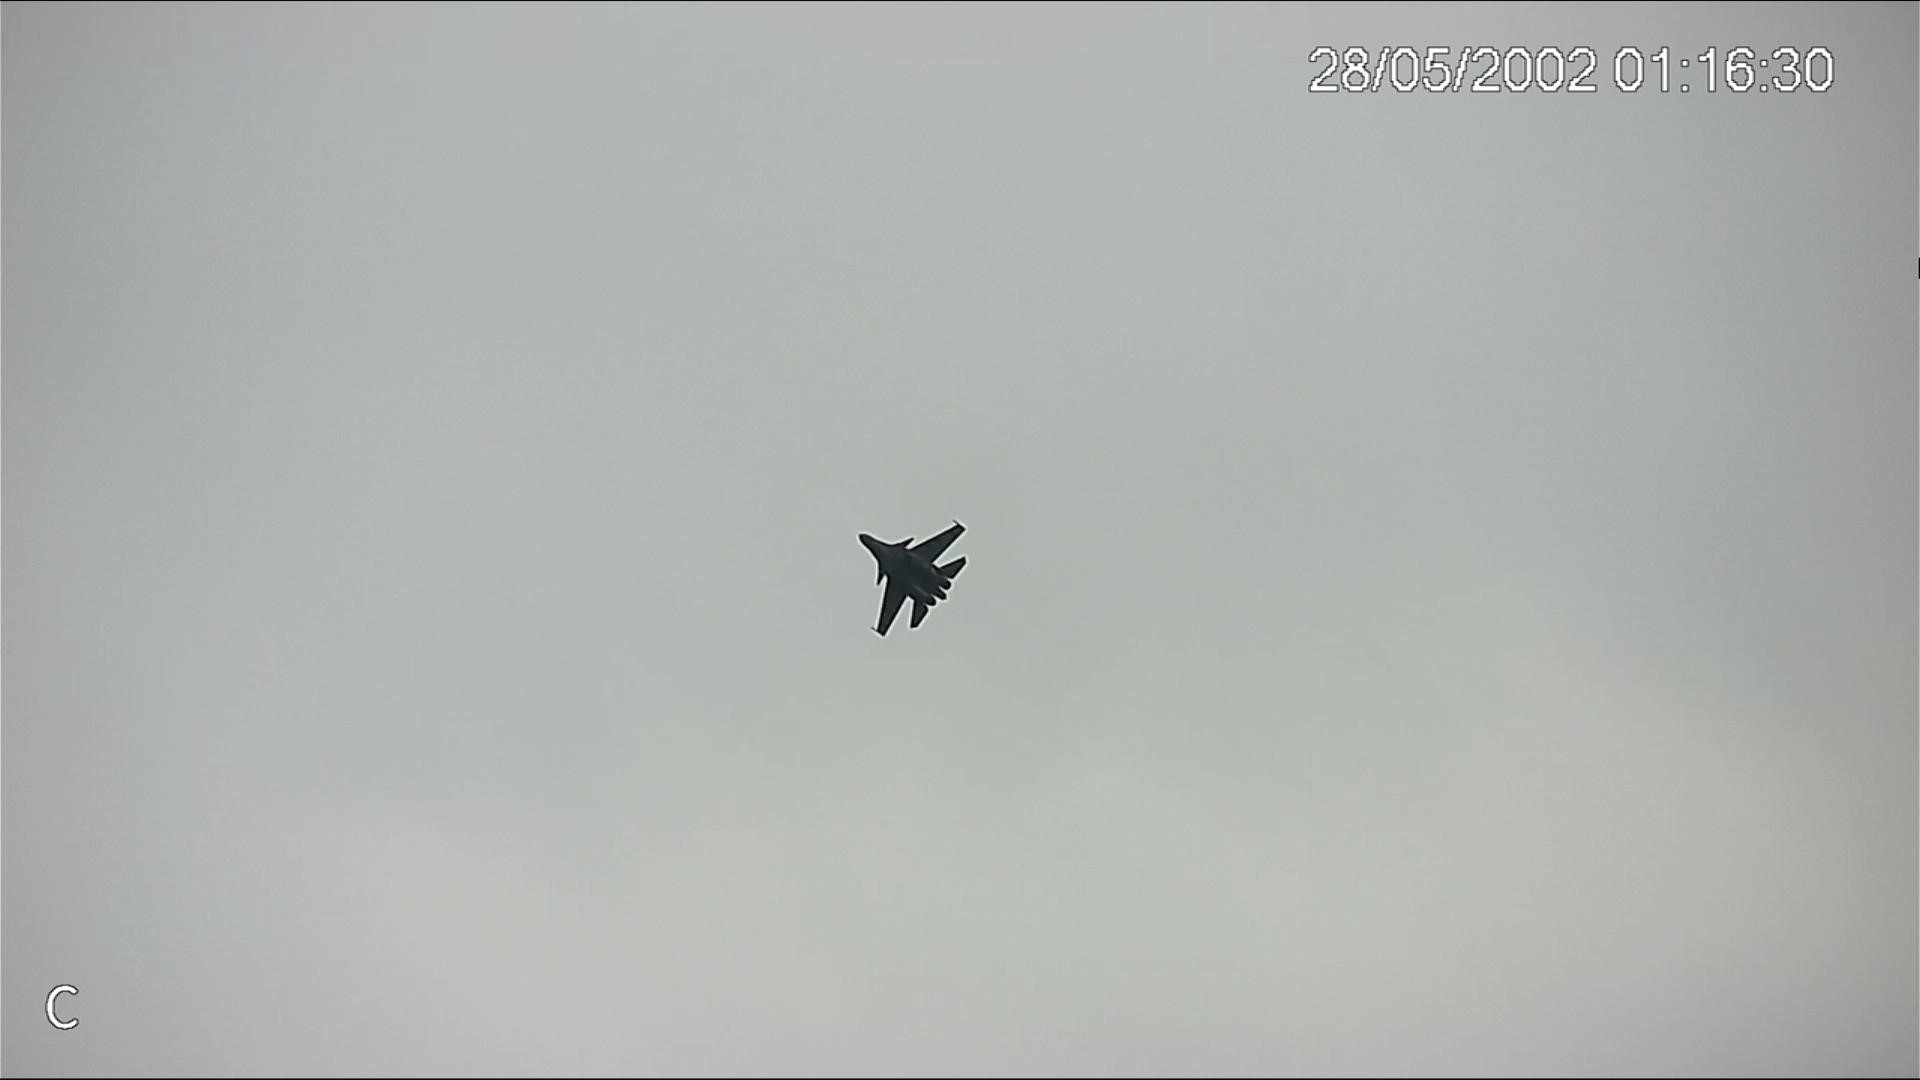SU_30: (847, 513, 969, 636)
